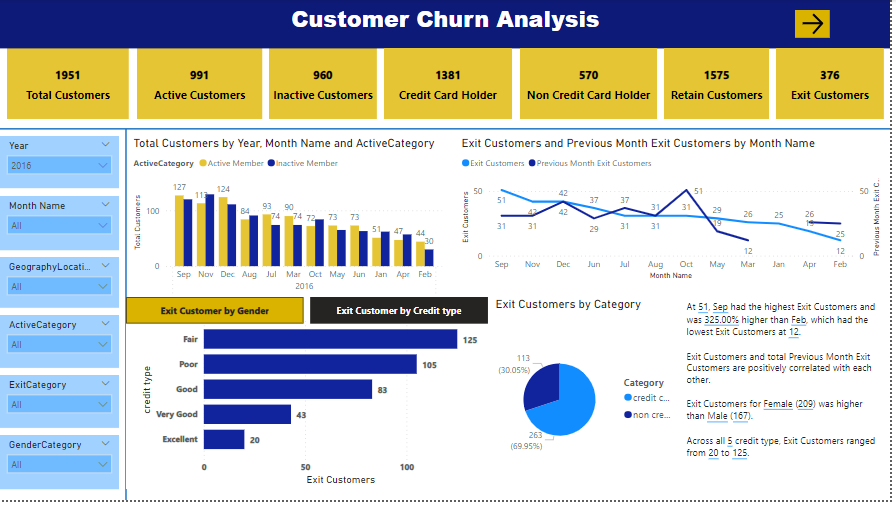

The page's visual inventory and layout, read from the dashboard file:
{"tool":"powerbi","page":{"name":"Homepage","canvas":[1280,720],"ordinal":0},"visuals":[{"type":"card","fields":{"Values":["Calculations.Total Customers"]},"box":[10.1,70.4,175.3,102],"z":0},{"type":"card","fields":{"Values":["Calculations.Active Customers"]},"box":[196.9,70.4,179.6,102],"z":1000},{"type":"card","fields":{"Values":["Calculations.Inactive Customers"]},"box":[386.6,70.4,155.2,102],"z":2000},{"type":"textbox","box":[0,0,1280,70.6],"z":3000},{"type":"card","fields":{"Values":["Calculations.Credit Card Holder"]},"box":[551.9,70.4,184,102],"z":4000},{"type":"card","fields":{"Values":["Calculations.Non Credit Card Holder"]},"box":[747.3,70.4,196.9,102],"z":5000},{"type":"card","fields":{"Values":["Calculations.Retain Customers"]},"box":[954.3,70.4,150.9,102],"z":6000},{"type":"card","fields":{"Values":["Calculations.Exit Customers"]},"box":[1115.2,70.4,155.2,102],"z":7000},{"type":"shape","box":[0,112.1,1280.5,149.5],"z":8000},{"type":"shape","box":[10.1,186.8,342,533.2],"z":9000},{"type":"slicer","fields":{"Values":["DateMaster.Year"]},"box":[0,196.9,171,74.7],"z":10000},{"type":"slicer","fields":{"Values":["Gender.GenderCategory"]},"box":[0,626.6,171,77.6],"z":11000},{"type":"slicer","fields":{"Values":["DateMaster.Month Name"]},"box":[0,283.1,171,77.6],"z":12000},{"type":"slicer","fields":{"Values":["Geography.GeographyLocation"]},"box":[0,370.8,171,73.3],"z":13000},{"type":"slicer","fields":{"Values":["ActiveCustomer.ActiveCategory"]},"box":[0,454.1,171,76.2],"z":14000},{"type":"slicer","fields":{"Values":["ExitCustomer.ExitCategory"]},"box":[0,540.4,171,76.2],"z":15000},{"type":"clusteredColumnChart","fields":{"Y":["Calculations.Total Customers"],"Series":["ActiveCustomer.ActiveCategory"],"Category":["DateMaster.Year","DateMaster.Month Name"]},"box":[186.8,196.9,454.1,247.2],"z":16000},{"type":"lineChart","fields":{"Category":["DateMaster.Month Name"],"Y":["Calculations.Exit Customers"],"Y2":["Calculations.Previous Month Exit Customers"]},"box":[658.2,196.9,612.2,211.3],"z":17000},{"type":"donutChart","fields":{"Category":["Gender.GenderCategory"],"Y":["Calculations.Exit Customers"]},"box":[181.1,428.3,521.7,275.9],"z":18000},{"type":"pieChart","fields":{"Category":["CreditCard.Category"],"Y":["Calculations.Exit Customers"]},"box":[707.1,428.3,274.5,275.9],"z":20000},{"type":"textbox","box":[981,428,289,276],"z":21000},{"type":"bookmarkNavigator","box":[181.1,428.3,521.7,38.8],"z":22000},{"type":"actionButton","box":[1142.5,15.8,50.3,40.2],"z":23000}]}

Visuals, with their boxes in screenshot pixels (x1, y1, x2, y2), scaled from the page's 1280x720 canvas onto the 896x505 screenshot:
card - Calculations.Total Customers: {"left": 7, "top": 49, "right": 130, "bottom": 121}
card - Calculations.Active Customers: {"left": 138, "top": 49, "right": 264, "bottom": 121}
card - Calculations.Inactive Customers: {"left": 271, "top": 49, "right": 379, "bottom": 121}
textbox: {"left": 0, "top": 0, "right": 895, "bottom": 50}
card - Calculations.Credit Card Holder: {"left": 386, "top": 49, "right": 515, "bottom": 121}
card - Calculations.Non Credit Card Holder: {"left": 523, "top": 49, "right": 661, "bottom": 121}
card - Calculations.Retain Customers: {"left": 668, "top": 49, "right": 774, "bottom": 121}
card - Calculations.Exit Customers: {"left": 781, "top": 49, "right": 889, "bottom": 121}
shape: {"left": 0, "top": 79, "right": 895, "bottom": 183}
shape: {"left": 7, "top": 131, "right": 246, "bottom": 504}
slicer - DateMaster.Year: {"left": 0, "top": 138, "right": 120, "bottom": 190}
slicer - Gender.GenderCategory: {"left": 0, "top": 439, "right": 120, "bottom": 494}
slicer - DateMaster.Month Name: {"left": 0, "top": 199, "right": 120, "bottom": 253}
slicer - Geography.GeographyLocation: {"left": 0, "top": 260, "right": 120, "bottom": 311}
slicer - ActiveCustomer.ActiveCategory: {"left": 0, "top": 319, "right": 120, "bottom": 372}
slicer - ExitCustomer.ExitCategory: {"left": 0, "top": 379, "right": 120, "bottom": 432}
clusteredColumnChart - Calculations.Total Customers x ActiveCustomer.ActiveCategory: {"left": 131, "top": 138, "right": 449, "bottom": 311}
lineChart - DateMaster.Month Name x Calculations.Exit Customers: {"left": 461, "top": 138, "right": 889, "bottom": 286}
donutChart - Gender.GenderCategory x Calculations.Exit Customers: {"left": 127, "top": 300, "right": 492, "bottom": 494}
pieChart - CreditCard.Category x Calculations.Exit Customers: {"left": 495, "top": 300, "right": 687, "bottom": 494}
textbox: {"left": 687, "top": 300, "right": 889, "bottom": 494}
bookmarkNavigator: {"left": 127, "top": 300, "right": 492, "bottom": 328}
actionButton: {"left": 800, "top": 11, "right": 835, "bottom": 39}
